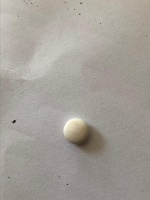Yuvarlak Buskopan: (61, 116, 89, 145)
